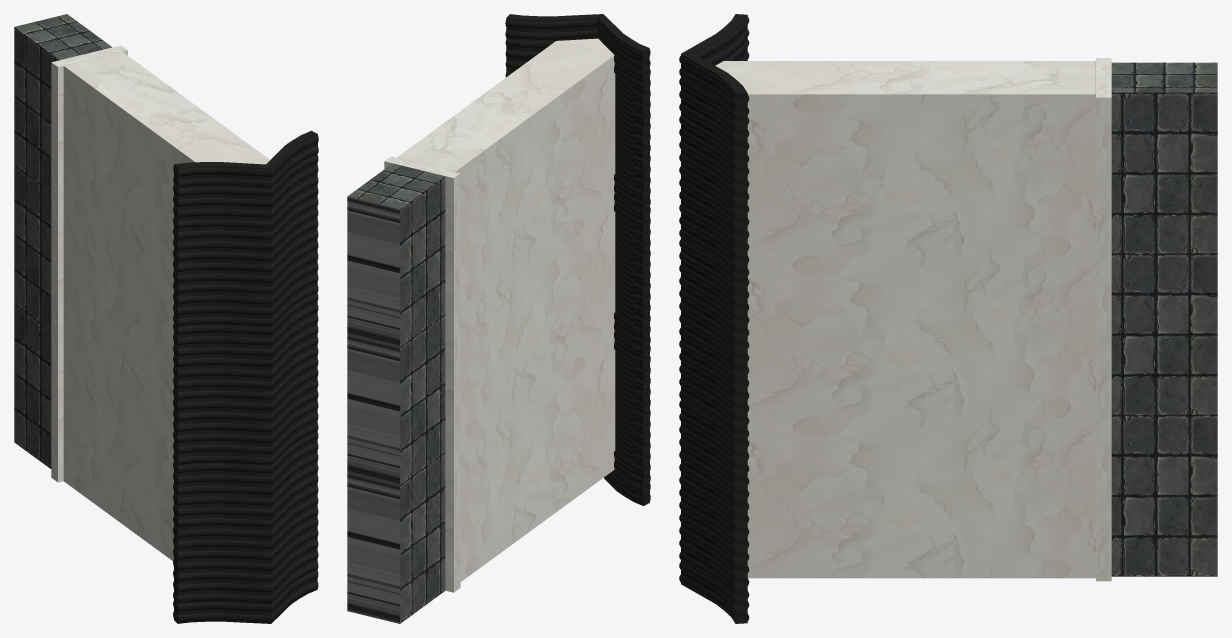
File: Walls.fbx
3 views of the same model, side by side, from view 1: azimuth 30°, elevation 25°; view 2: azimuth 150°, elevation 25°; view 3: azimuth 270°, elevation 25° (orthographic). The views are drawn at different scales.
Visible parts, largest first — view 1: Cube.105, Plane.010, Plane.011, Cube.106, Cube, Plane.002; view 2: Cube.105, Cube, Cube.106, Plane.010, Plane.011, Plane.002; view 3: Cube.105, Cube.106, Cube, Plane.010, Plane.011, Plane.002.
Part boxes in pixels (x1,y1,x2,y2): Cube.105: (14,14,269,283); Plane.010: (173,130,318,327); Plane.011: (173,432,318,623); Cube.106: (14,304,173,560); Cube: (14,165,173,422); Plane.002: (173,293,318,465); Cube.105: (347,38,615,347); Cube: (347,193,615,485); Cube.106: (347,332,615,623); Plane.010: (505,14,650,209); Plane.011: (604,330,650,505); Plane.002: (614,192,650,348); Cube.105: (715,58,1217,258); Cube.106: (747,415,1217,581); Cube: (747,254,1217,419); Plane.010: (679,14,749,277); Plane.011: (679,399,749,623); Plane.002: (679,238,749,438).
Size of the model in its own units: 106 by 329 by 303.
